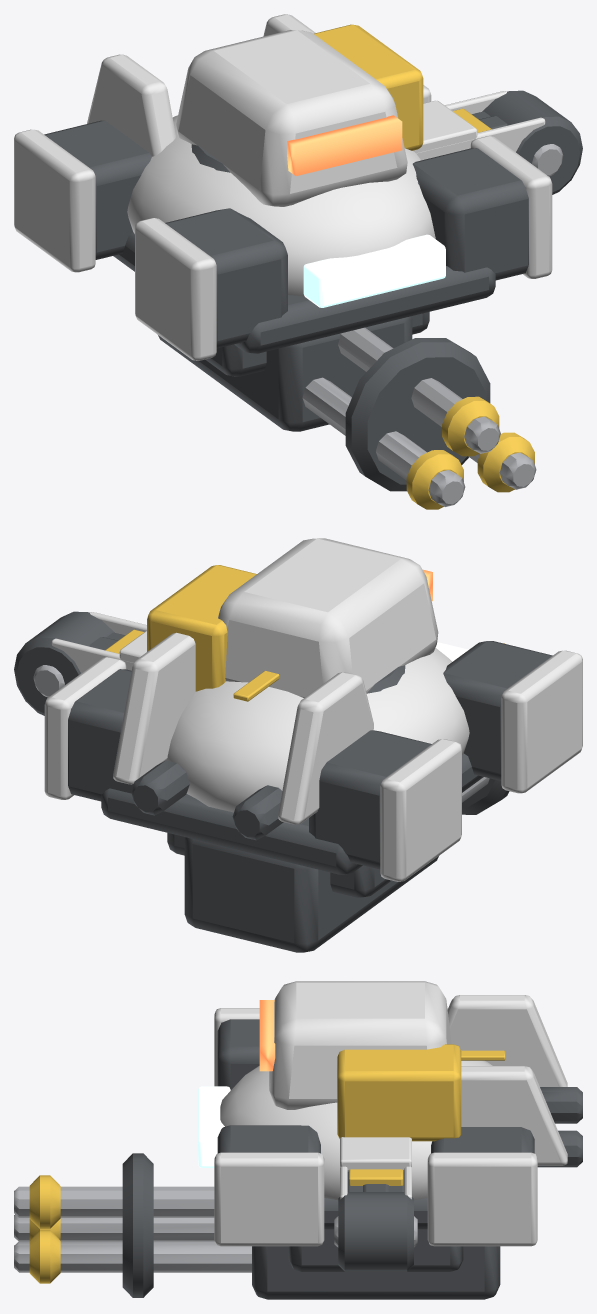
Rendered from burst.glb.
The picture shows the model from 3 angles, top to bottom: view 1: azimuth 30°, elevation 25°; view 2: azimuth 150°, elevation 25°; view 3: azimuth 270°, elevation 25°; orthographic projection. The views are drawn at different scales.
Visible parts, largest first — view 1: Hull, Turret, Barrel, LegUpper; view 2: Hull, Turret, Barrel, LegUpper, LegLower; view 3: Hull, Barrel, Turret, LegUpper, LegLower.
Part boxes in pixels (x1,y1,x2,y2): Hull: [14, 14, 552, 376]; Turret: [176, 24, 423, 206]; Barrel: [158, 316, 536, 509]; LegUpper: [412, 90, 582, 194]; Hull: [44, 632, 582, 897]; Turret: [147, 538, 438, 697]; Barrel: [184, 643, 509, 952]; LegUpper: [14, 611, 146, 715]; LegLower: [89, 629, 144, 653]; Hull: [198, 995, 582, 1271]; Barrel: [14, 1153, 500, 1299]; Turret: [259, 981, 461, 1141]; LegUpper: [334, 1137, 417, 1271]; LegLower: [349, 1169, 403, 1191].
Size of the model in its own units: 0.7288 by 0.496 by 0.88.
